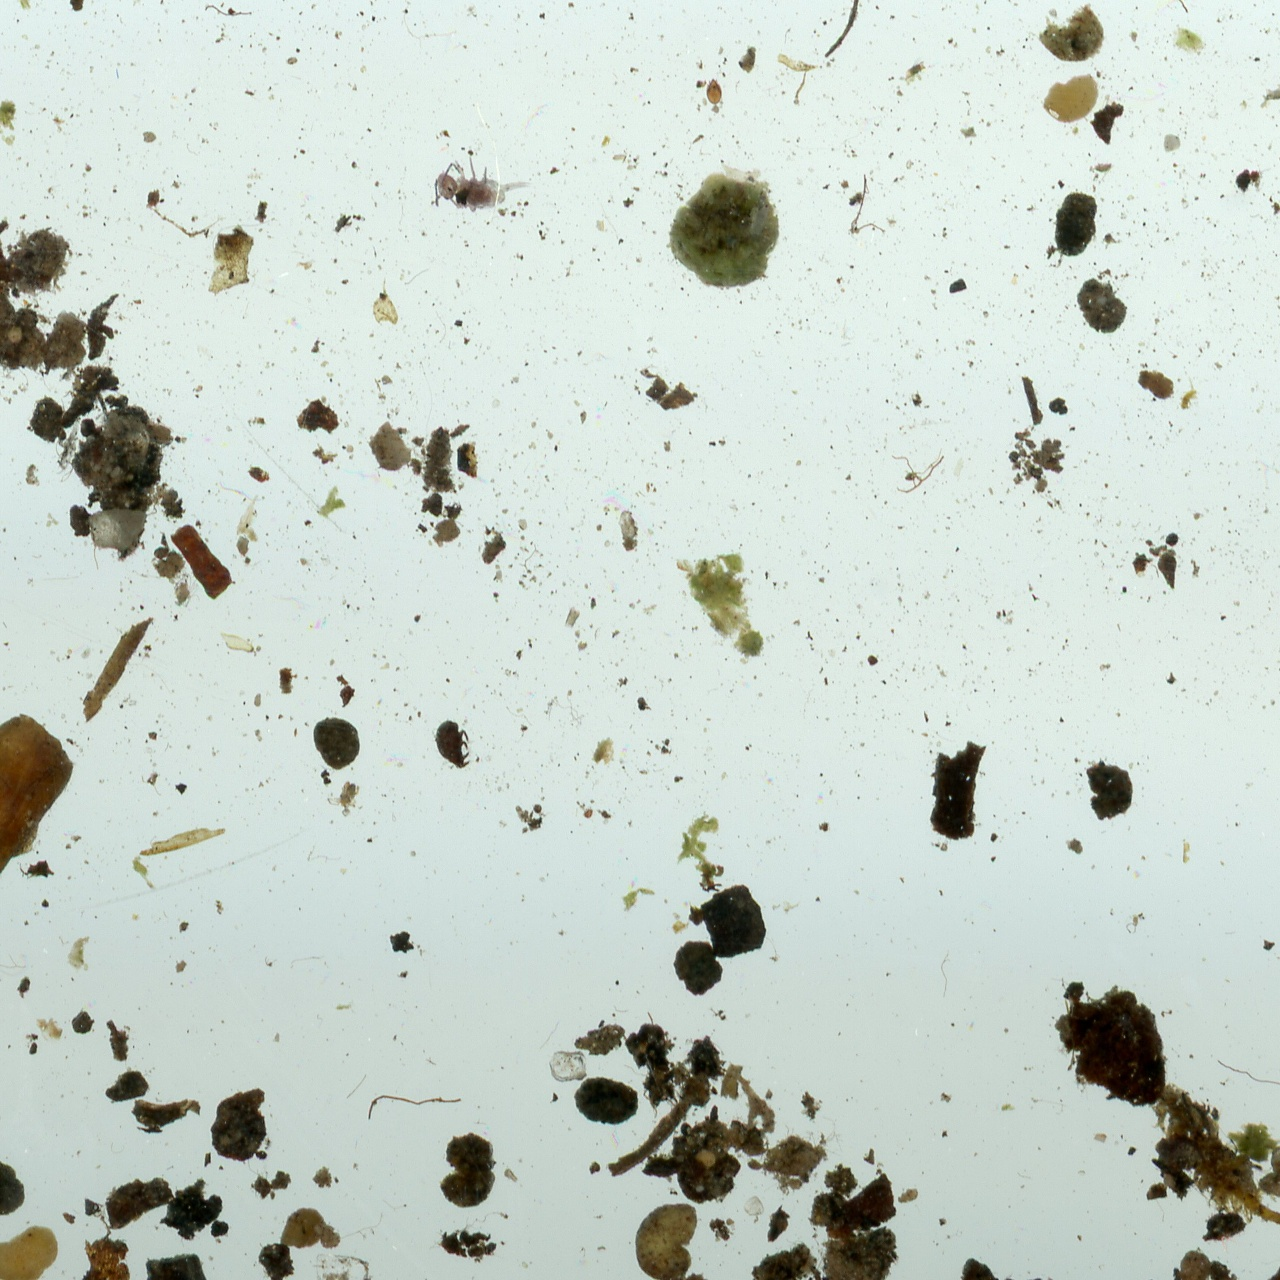arthropod: (425, 143, 533, 217), (427, 152, 535, 216), (430, 716, 472, 770), (436, 719, 471, 770), (327, 779, 361, 818), (704, 77, 727, 110), (704, 76, 723, 107)
